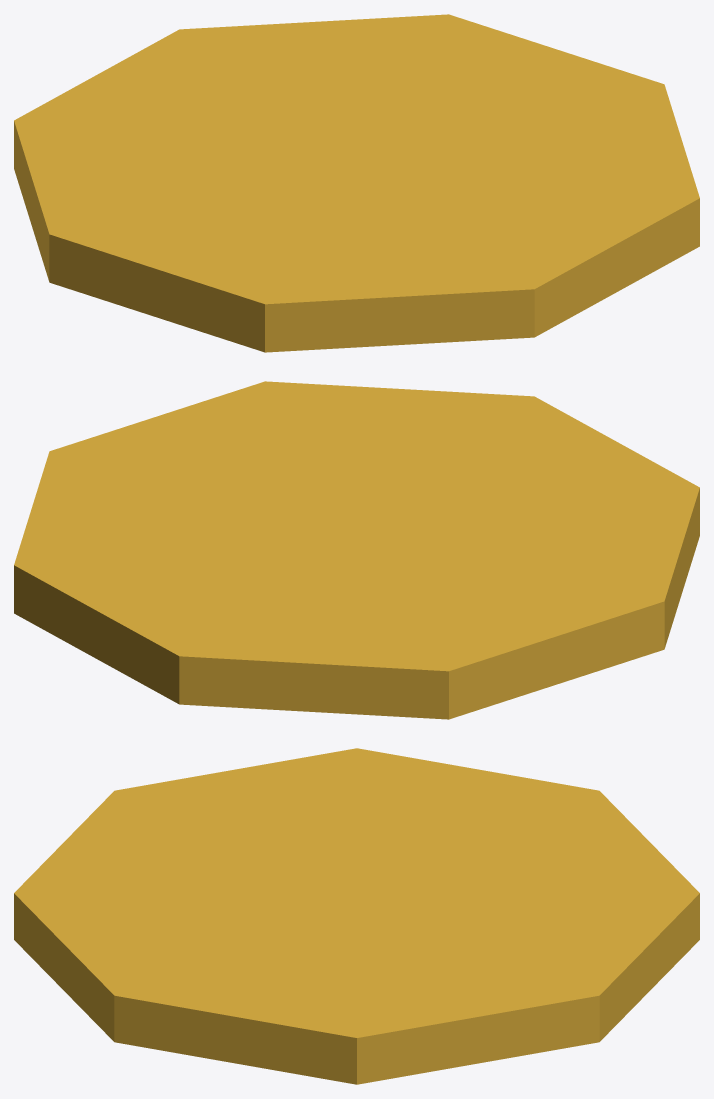
File: PR_HotCoin.fbx
3 renders of one model, top to bottom at view 1: azimuth 30°, elevation 25°; view 2: azimuth 150°, elevation 25°; view 3: azimuth 270°, elevation 25°, orthographic. The views are drawn at different scales.
Visible parts, largest first — view 1: PR_HotCoin; view 2: PR_HotCoin; view 3: PR_HotCoin.
Boxes of the visible parts, x1,y1,x2,y2 form: PR_HotCoin: (14,14,699,352); PR_HotCoin: (14,381,699,719); PR_HotCoin: (14,748,699,1084).
Size of the model in its own units: 0.6 by 0.6 by 0.06.
